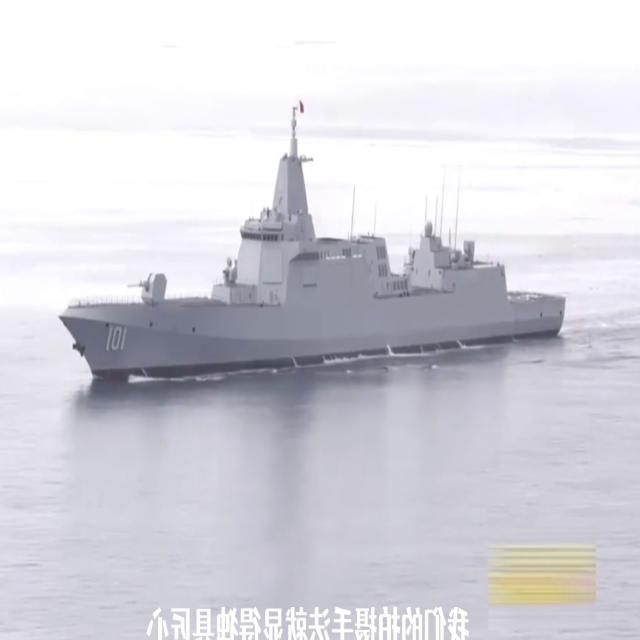navalvessels: (60, 102, 566, 382)
